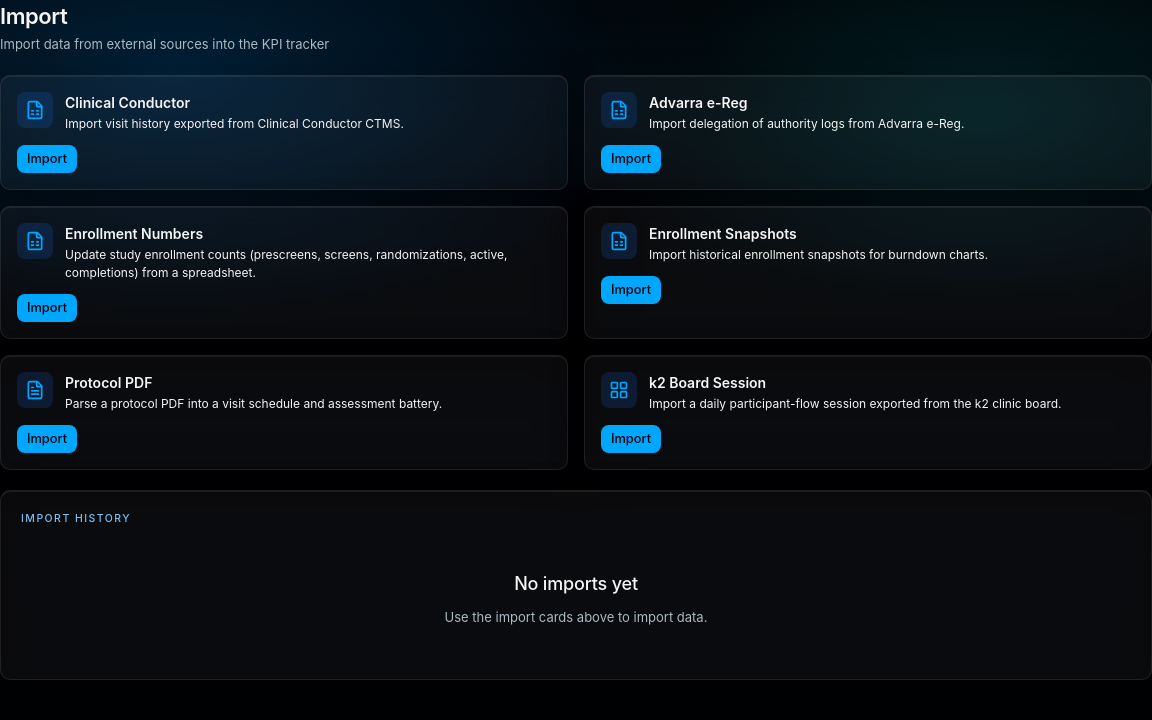
Import › opens the Protocol PDF dialog with a study selector
# Protocol PDF is the 5th card (Enrollment Numbers added at position 3).
Click the 5th button "Import".
click(47, 438)  # box [17,424,77,452]
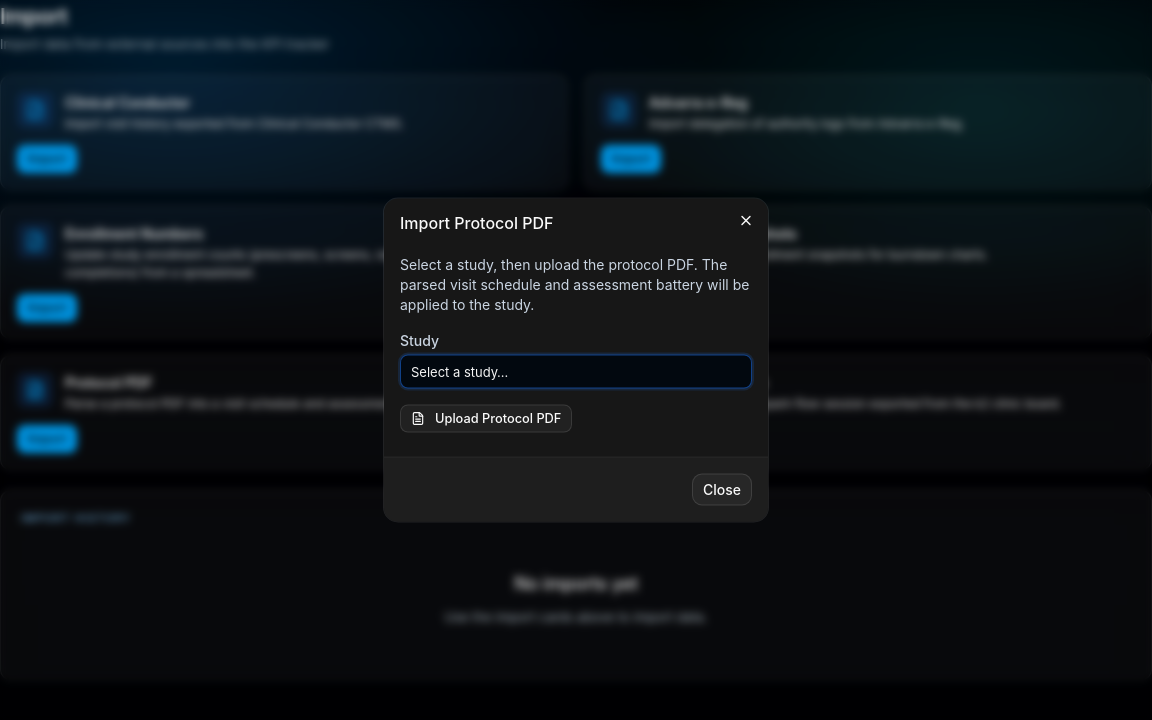
Check: the dialog "Import Protocol PDF" is shown, box [384,198,768,522]
Check: the dropdown named "select study" is shown, box [400,354,752,388]
